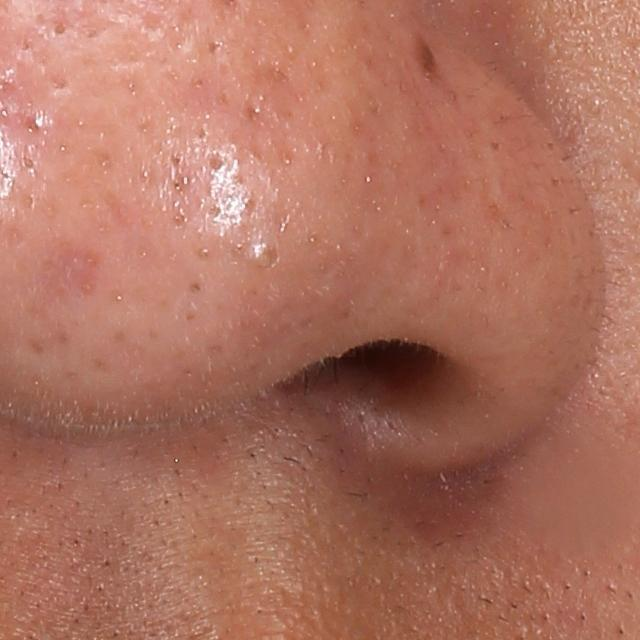comedo: (50, 21, 69, 38)
nevus: (413, 40, 441, 80)
other: (246, 239, 277, 267)
